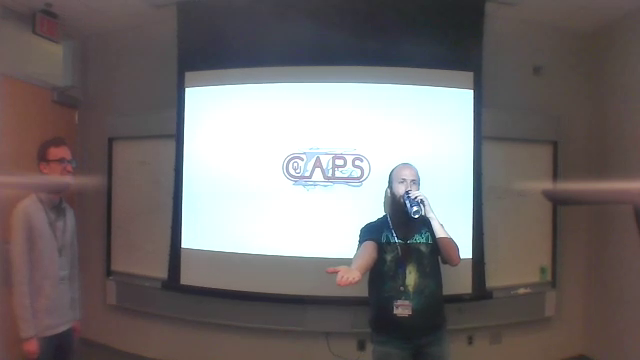land: (319, 259, 368, 297)
